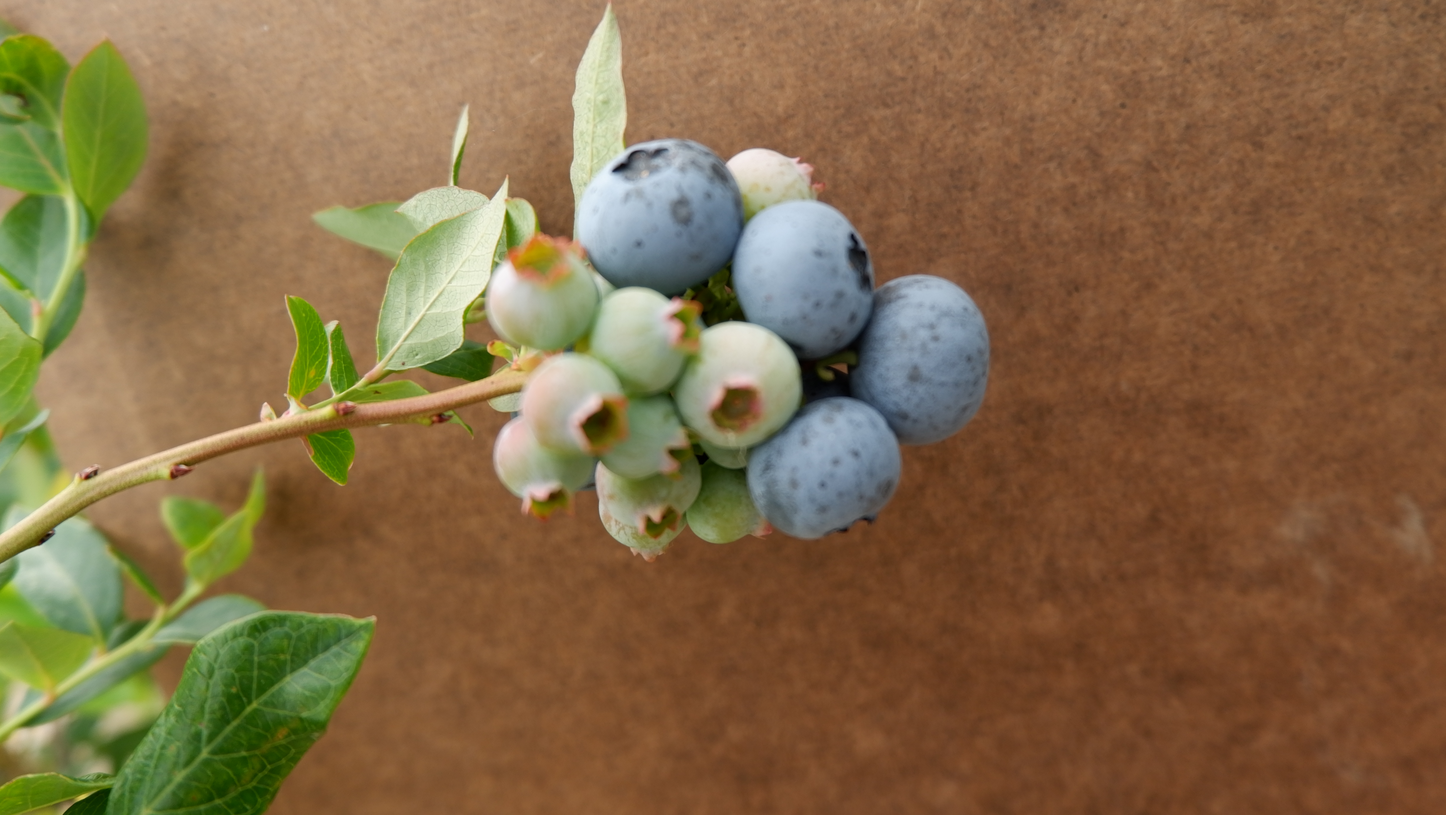Immature: (672, 321, 803, 449), (573, 290, 707, 397), (484, 232, 600, 350), (519, 351, 628, 458), (493, 416, 593, 522), (594, 453, 702, 540), (725, 148, 826, 229), (600, 391, 691, 479), (685, 458, 773, 545), (598, 500, 688, 563), (695, 435, 754, 470)
Mature: (578, 139, 742, 296), (846, 274, 990, 447), (732, 200, 877, 362), (746, 396, 904, 542)
